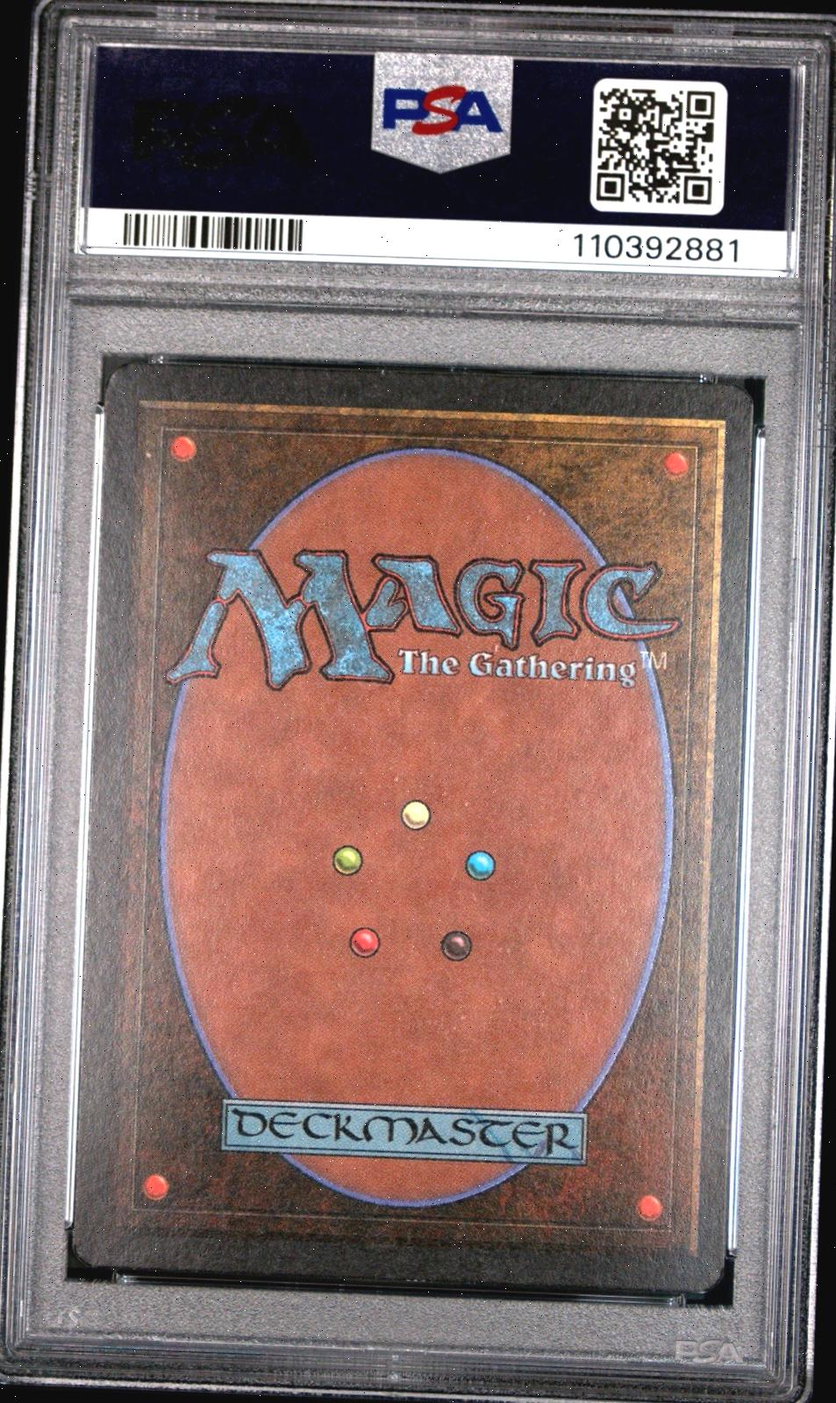card-2UtV: (71, 362, 753, 1294)
